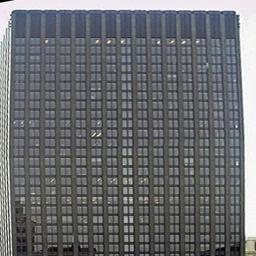building: (10, 0, 244, 256)
